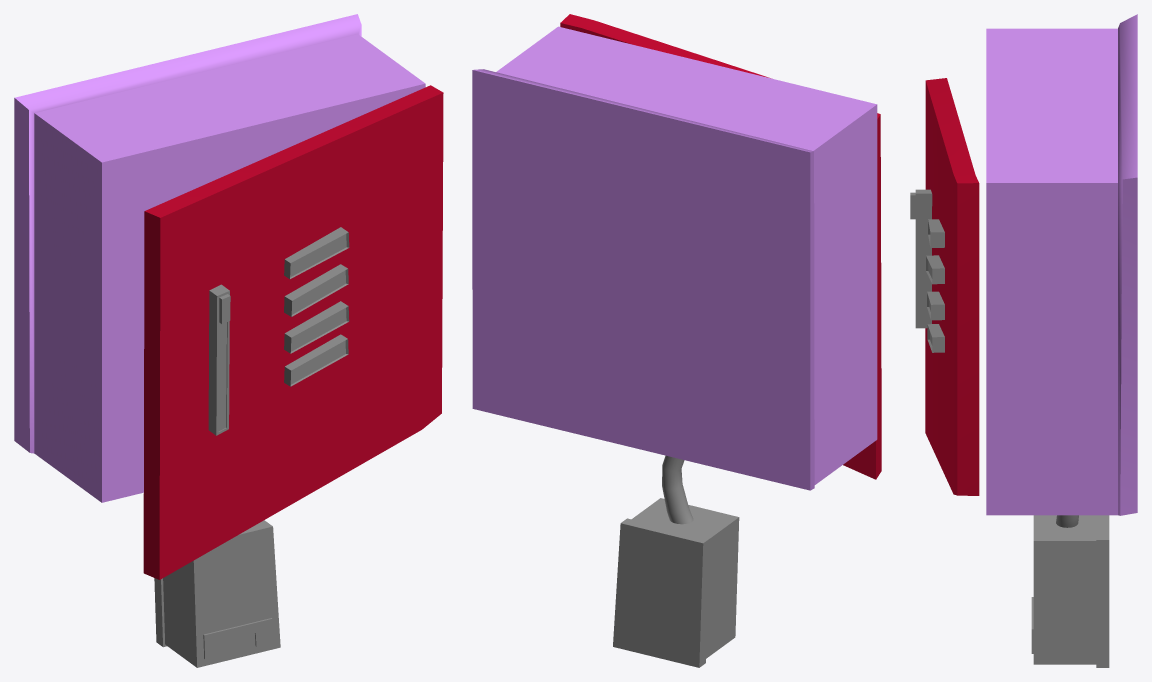
File: prop 1 for substance.FBX
3 views of the same model, side by side, from view 1: azimuth 30°, elevation 25°; view 2: azimuth 150°, elevation 25°; view 3: azimuth 270°, elevation 25° (orthographic). The views are drawn at different scales.
Parts seen in each view (by area): view 1: Box002; view 2: Box002; view 3: Box002.
Part boxes in pixels (x1=…): Box002: x1=14, y1=14, x2=443, y2=667; Box002: x1=472, y1=14, x2=881, y2=667; Box002: x1=910, y1=14, x2=1137, y2=667.
Bounding box in the file's own units: 164 × 257 × 96.17.
